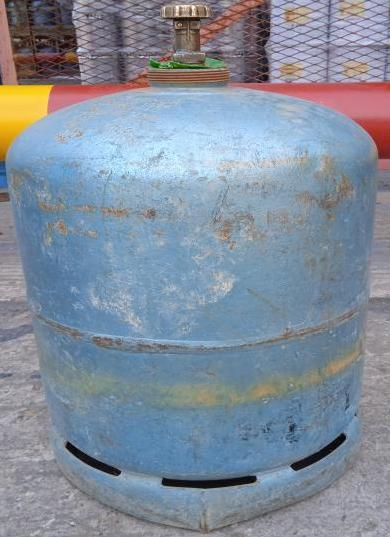cylinder: (1, 1, 390, 537)
